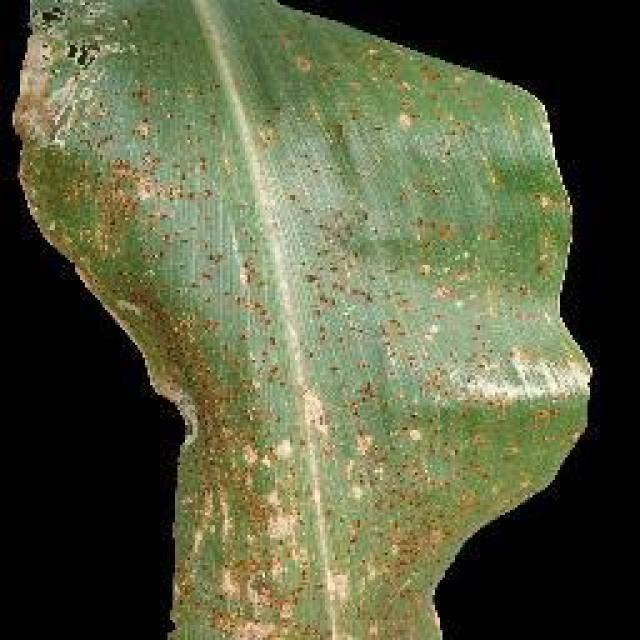Corn Common Rust: (125, 51, 505, 596)
